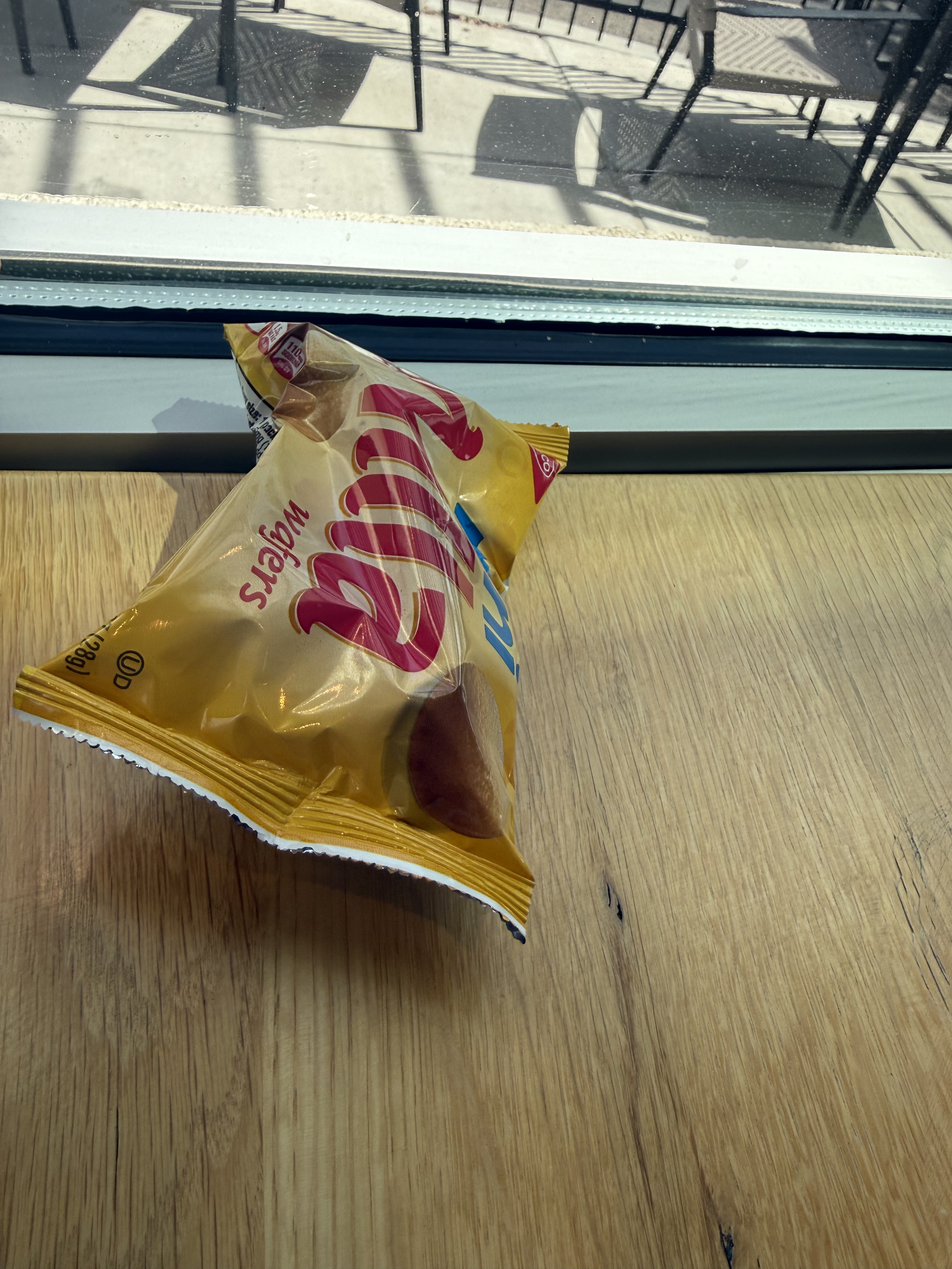nilla: (248, 279, 653, 912)
